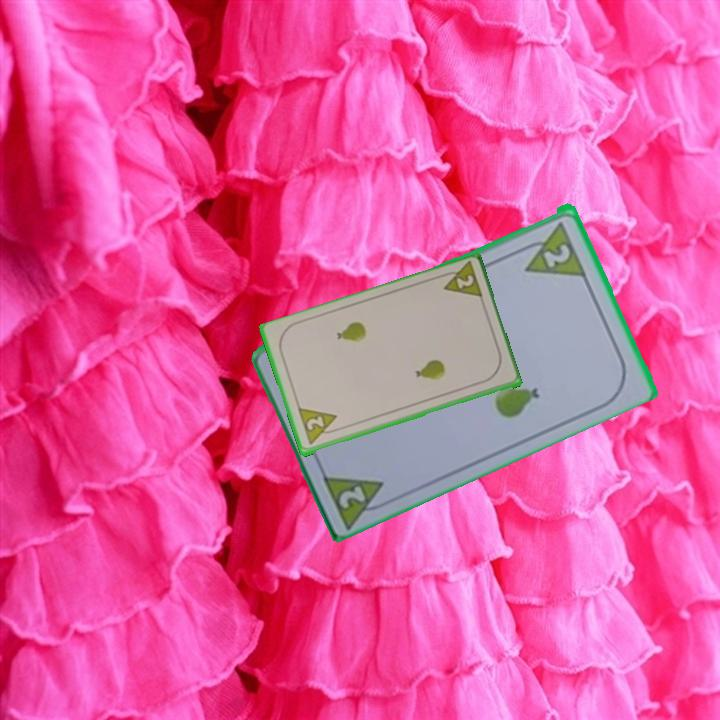2p: (318, 468, 396, 529), (514, 217, 589, 279), (435, 260, 486, 303), (294, 405, 343, 448)
